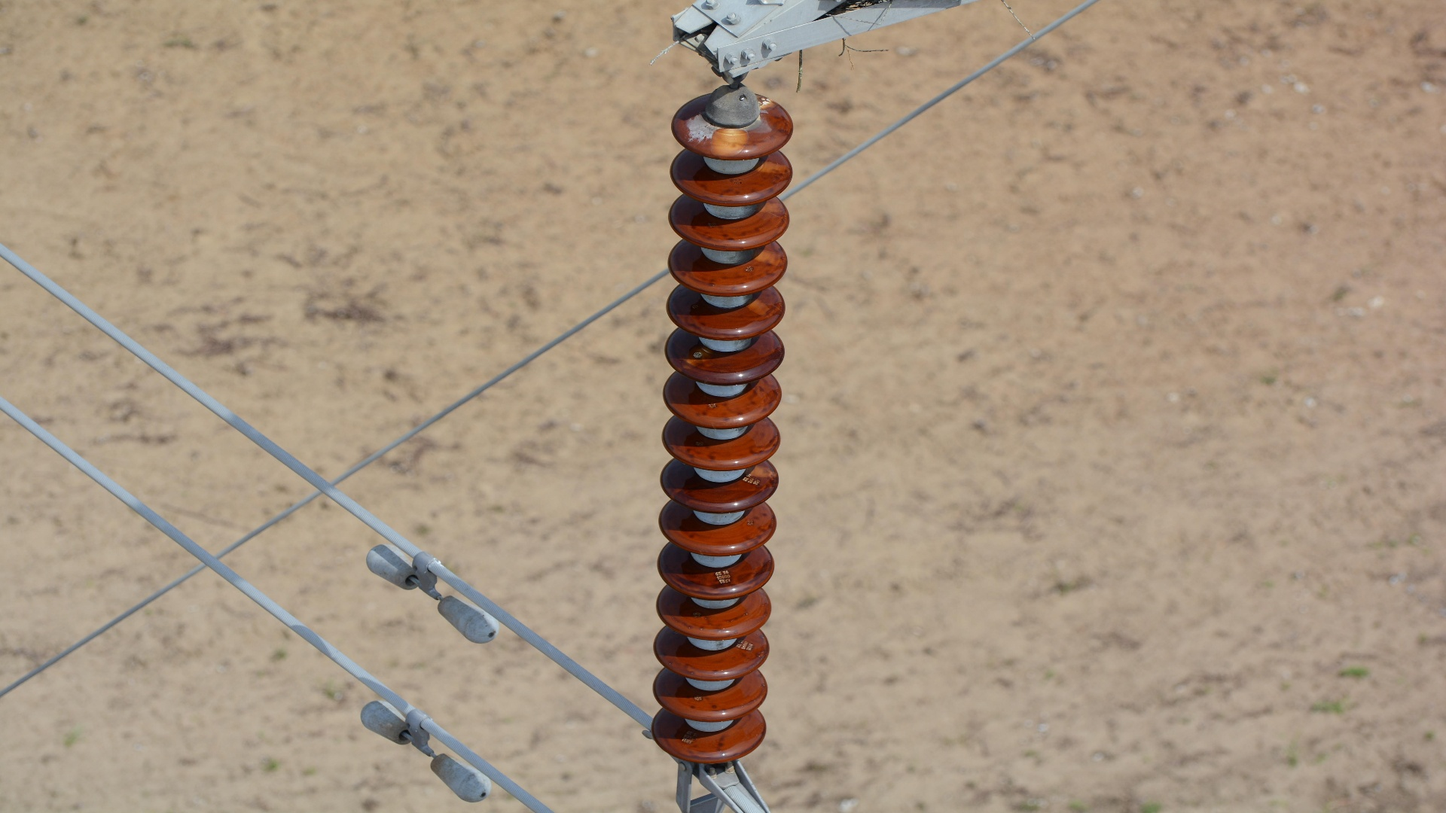damper: (361, 538, 505, 649), (355, 695, 497, 806)
